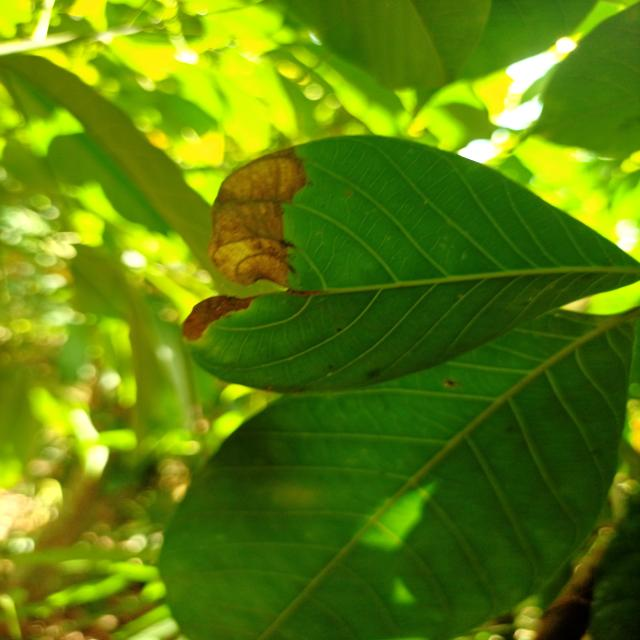Colletotrichum: (336, 328, 342, 332)
Leaf-Blight: (206, 144, 309, 289), (180, 294, 260, 342)
